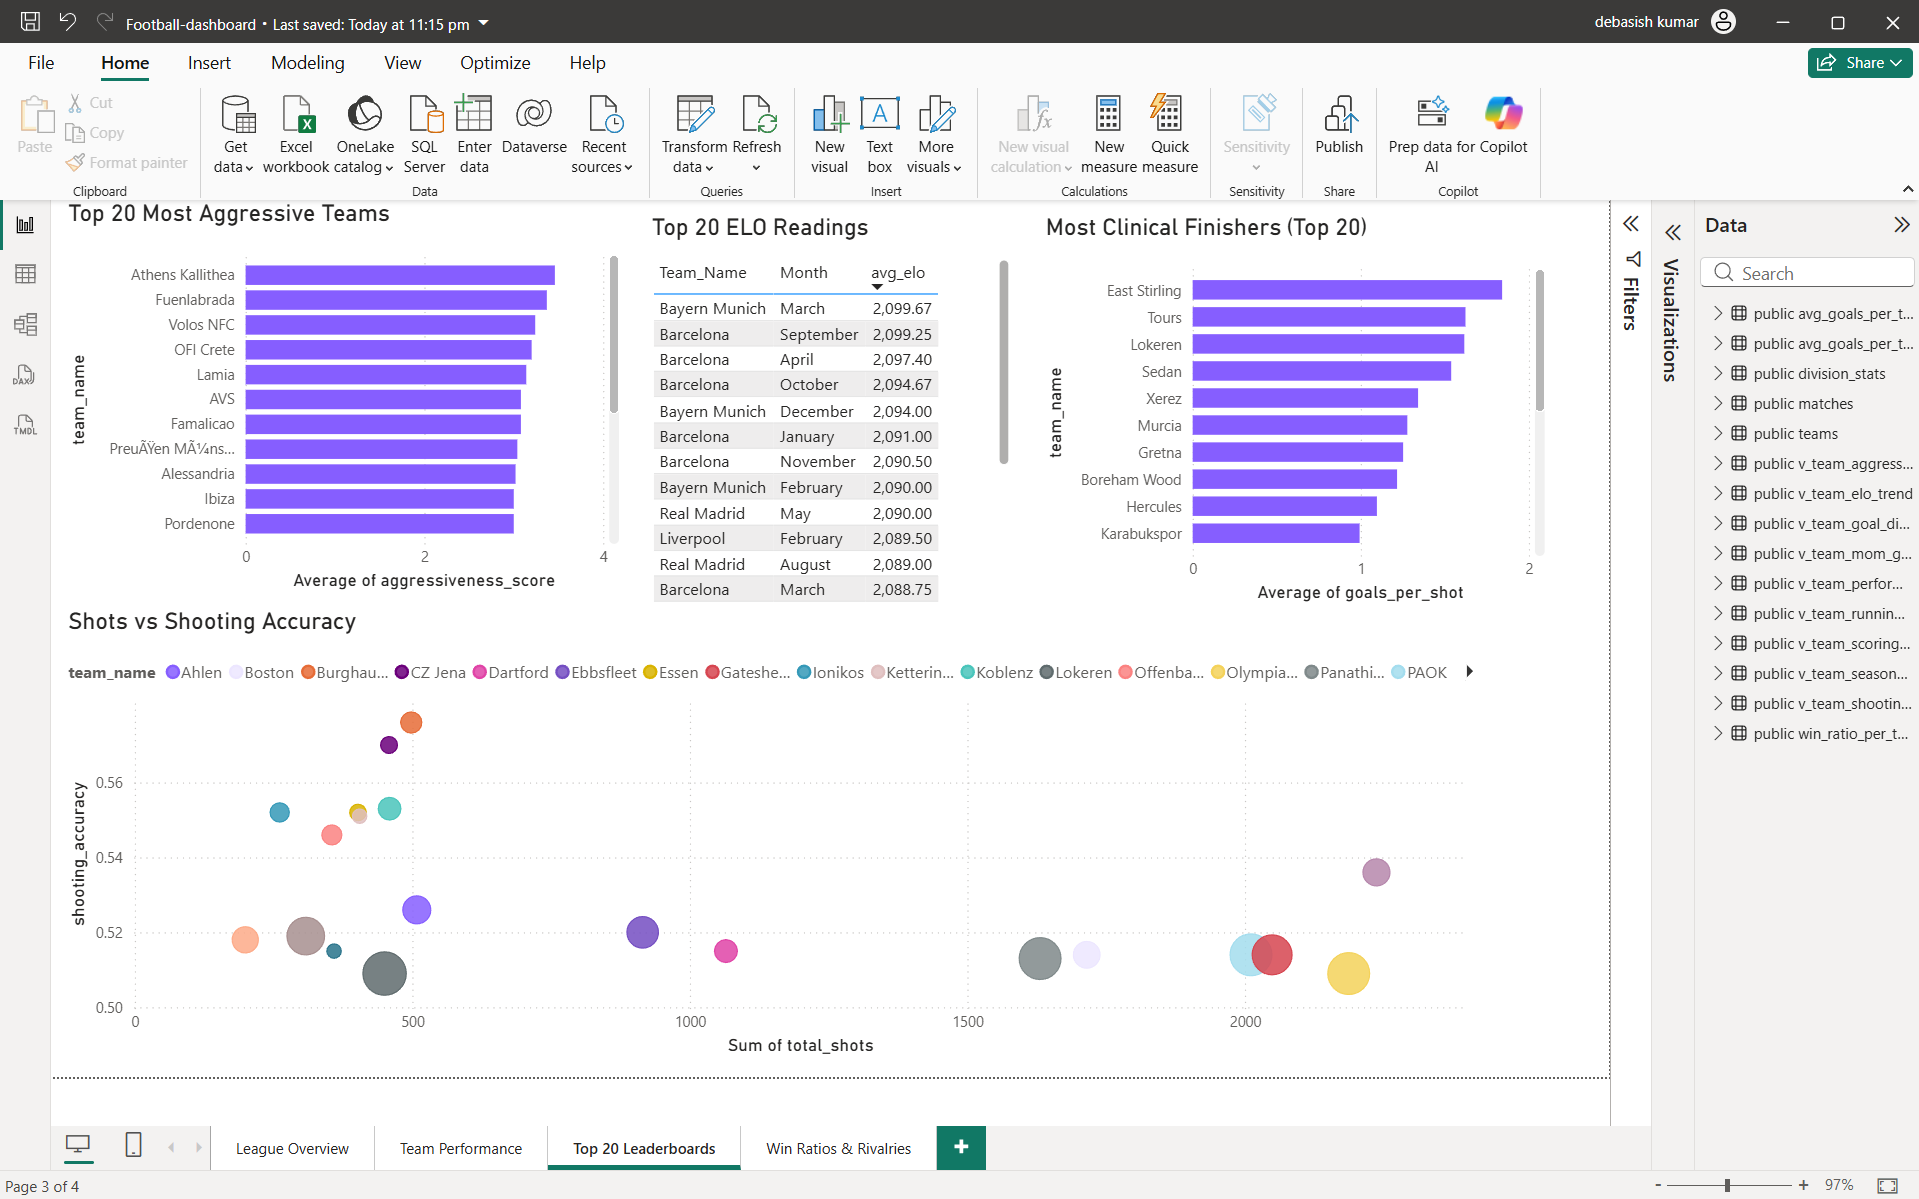

This screenshot's page, from the dashboard's own definition file:
{"tool":"powerbi","page":{"name":"Top 20 Leaderboards","canvas":[1280,720],"ordinal":2},"visuals":[{"type":"barChart","title":"Top 20 Most Aggressive Teams","fields":{"Category":["public v_team_aggressiveness.team_name"],"Y":["Avg(public v_team_aggressiveness.aggressiveness_score)"]},"box":[9.6,0,462.4,325.2],"z":0},{"type":"tableEx","title":"Top 20 ELO Readings","fields":{"Values":["public v_team_elo_trend.team_name","public v_team_elo_trend.month.Variation.Date Hierarchy.Month","public v_team_elo_trend.avg_elo"]},"box":[488.5,11,303.3,323.8],"z":1000},{"type":"scatterChart","title":"Shots vs Shooting Accuracy","fields":{"Series":["public v_team_shooting_efficiency.team_name"],"Size":["Sum(public v_team_shooting_efficiency.matches_played)"],"X":["Sum(public v_team_shooting_efficiency.total_shots)"],"Y":["public v_team_shooting_efficiency.shooting_accuracy"]},"box":[9.6,334.8,1171.9,371.9],"z":2000},{"type":"barChart","title":"Most Clinical Finishers (Top 20)","fields":{"Category":["public v_team_scoring_efficiency.team_name"],"Y":["Avg(public v_team_scoring_efficiency.goals_per_shot)"]},"box":[812.4,11,419.9,323.8],"z":3000}]}

Visuals, with their boxes on the page's 1280x720 design canvas (x1, y1, x2, y2). These are canvas units, not pixel positions in the 1919x1199 screenshot, which may show the page scaled, cropped or inside an application window:
"Top 20 Most Aggressive Teams" barChart: bbox=(10, 0, 472, 325)
"Top 20 ELO Readings" tableEx: bbox=(488, 11, 792, 335)
"Shots vs Shooting Accuracy" scatterChart: bbox=(10, 335, 1182, 707)
"Most Clinical Finishers (Top 20)" barChart: bbox=(812, 11, 1232, 335)
